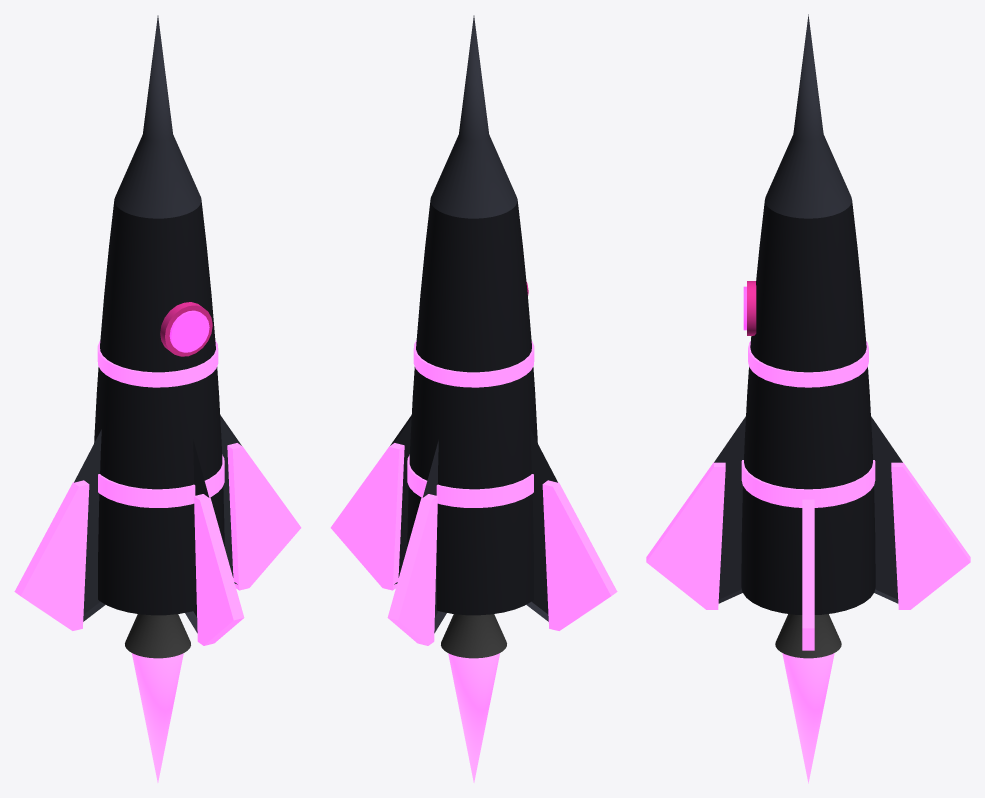
Rendered from Rocket_31_ShadowStriker.fbx.
The picture shows the model from 3 angles, left to right: view 1: azimuth 30°, elevation 25°; view 2: azimuth 150°, elevation 25°; view 3: azimuth 270°, elevation 25°; orthographic projection.
Parts seen in each view (by area): view 1: R31_Body, R31_Nose, R31_FinGlow_2, R31_FinGlow_4, R31_FinGlow_3, R31_Flame_1, R31_Fin_2, R31_Nozzle_1, R31_Band_1, R31_Band_2, R31_Window_1, R31_Fin_4 (+2 smaller); view 2: R31_Body, R31_Nose, R31_FinGlow_2, R31_FinGlow_4, R31_FinGlow_1, R31_Flame_1, R31_Fin_2, R31_Nozzle_1, R31_Band_1, R31_Band_2, R31_Fin_4, R31_Fin_1; view 3: R31_Body, R31_Nose, R31_FinGlow_1, R31_FinGlow_3, R31_Fin_1, R31_Fin_3, R31_Flame_1, R31_Band_1, R31_Band_2, R31_Nozzle_1, R31_FinGlow_4.
Part boxes in pixels (x1,y1,x2,y2): R31_Body: (94,200,224,615); R31_Nose: (114,15,201,218); R31_FinGlow_2: (14,480,89,630); R31_FinGlow_4: (227,443,301,590); R31_FinGlow_3: (194,494,244,645); R31_Flame_1: (132,653,183,782); R31_Fin_2: (74,429,105,621); R31_Nozzle_1: (125,614,190,658); R31_Band_1: (98,454,224,507); R31_Band_2: (97,340,218,387); R31_Window_1: (169,310,209,352); R31_Fin_4: (220,415,241,584); R31_Body: (407,200,537,615); R31_Nose: (430,15,517,218); R31_FinGlow_2: (542,480,617,630); R31_FinGlow_4: (330,443,404,590); R31_FinGlow_1: (387,494,437,645); R31_Flame_1: (448,653,499,782); R31_Fin_2: (526,429,557,621); R31_Nozzle_1: (441,614,506,658); R31_Band_1: (407,454,533,507); R31_Band_2: (413,340,534,387); R31_Fin_4: (390,415,411,584); R31_Fin_1: (422,440,446,633); R31_Body: (741,200,875,614); R31_Nose: (765,14,851,218); R31_FinGlow_1: (891,462,970,609); R31_FinGlow_3: (646,462,725,609); R31_Fin_1: (871,416,902,603); R31_Fin_3: (714,416,745,603); R31_Flame_1: (782,653,834,783); R31_Band_1: (741,460,875,507); R31_Band_2: (748,341,868,387); R31_Nozzle_1: (775,614,841,658); R31_FinGlow_4: (802,499,814,650).
Bounding box in the file's own units: 4.1 × 10.75 × 4.1.
